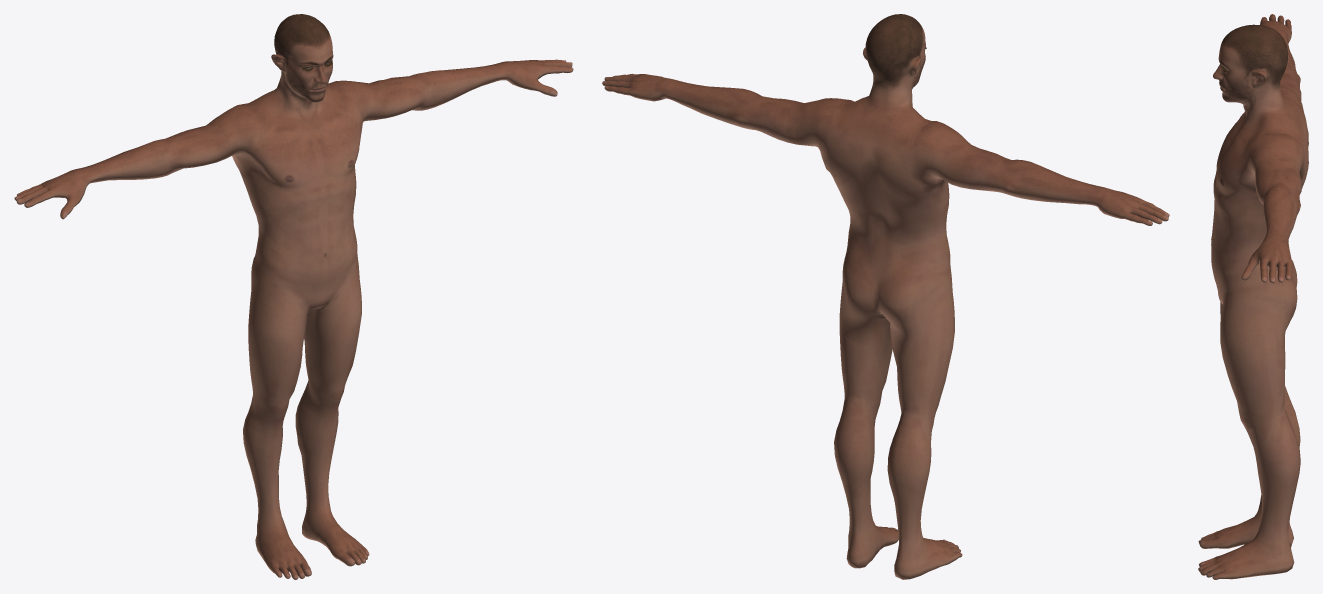
The model's file is person.obj.
3 renders of one model, left to right at view 1: azimuth 30°, elevation 25°; view 2: azimuth 150°, elevation 25°; view 3: azimuth 270°, elevation 25°, orthographic. The views are drawn at different scales.
Parts seen in each view (by area): view 1: Body; view 2: Body; view 3: Body.
Part boxes in pixels (x1,y1,x2,y2): Body: (14, 14, 573, 579); Body: (602, 14, 1169, 579); Body: (1198, 14, 1308, 579).
Bounding box in the file's own units: 194 × 179 × 33.71.
Materials: 1 (1 with a texture image).
